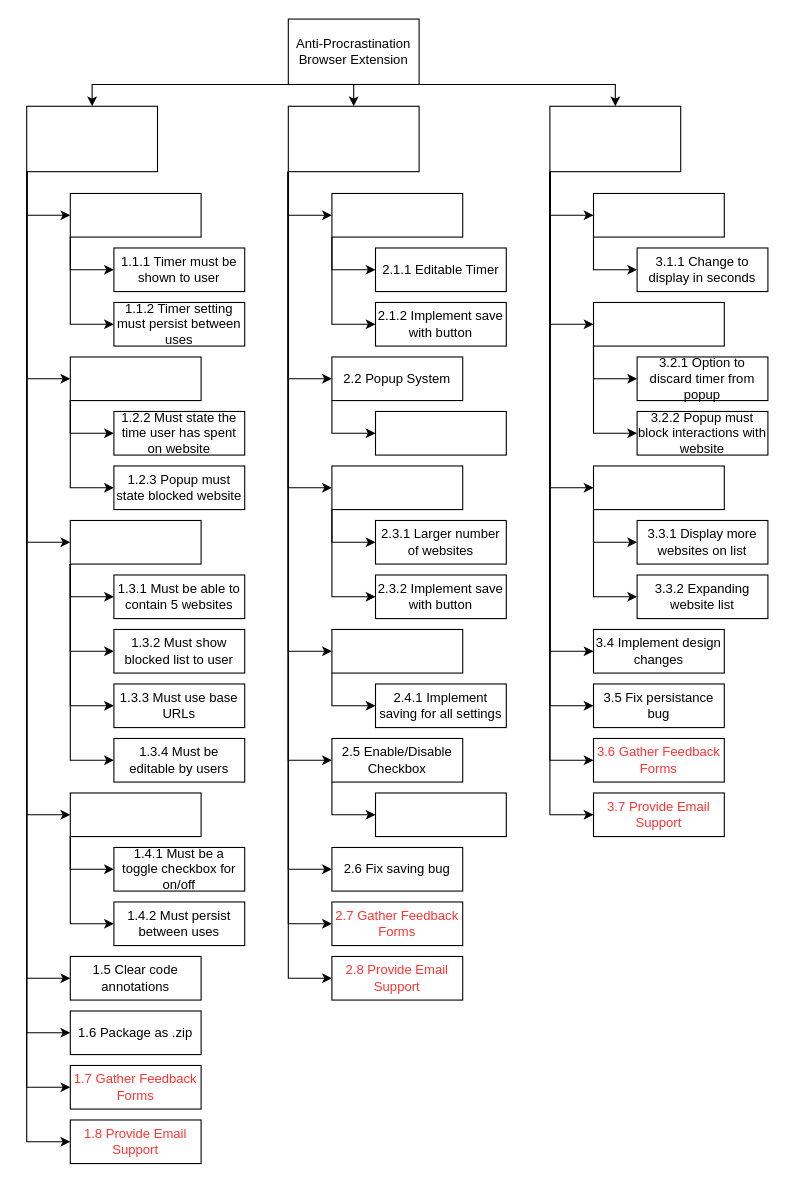
The diagram is 787 pixels wide and 1183 high, and some of its shapes have lost their labels. Here are the shapes that lost their labels. From the top down, the centre of each, then its label:
At point (92, 138): "1 Scrum 1".
At point (353, 138): "2 Scrum 2".
At point (615, 138): "3 Scrum 3".
At point (135, 214): "1.1 Timer System".
At point (397, 214): "2.1 Timer System".
At point (658, 214): "3.1 Timer System".
At point (658, 323): "3.2 Popup System".
At point (135, 378): "1.2 Popup System".
At point (440, 432): "2.2.1 Option to reset timer from popup".
At point (397, 487): "2.3 Website List".
At point (658, 487): "3.3 Website List".
At point (135, 541): "1.3 Website List".
At point (397, 650): "2.4 Save Button".
At point (135, 814): "1.4 Enable/Disable Checkbox".
At point (440, 814): "2.5.1 Implement Save with Button".
